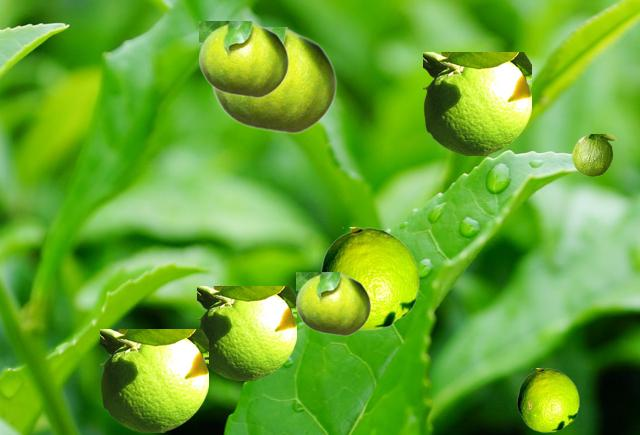dalandan: (212, 27, 336, 133), (100, 329, 207, 431), (423, 52, 530, 154), (320, 227, 418, 329), (197, 286, 295, 379), (199, 21, 288, 97), (296, 272, 370, 335), (517, 368, 578, 431), (572, 134, 615, 175)
